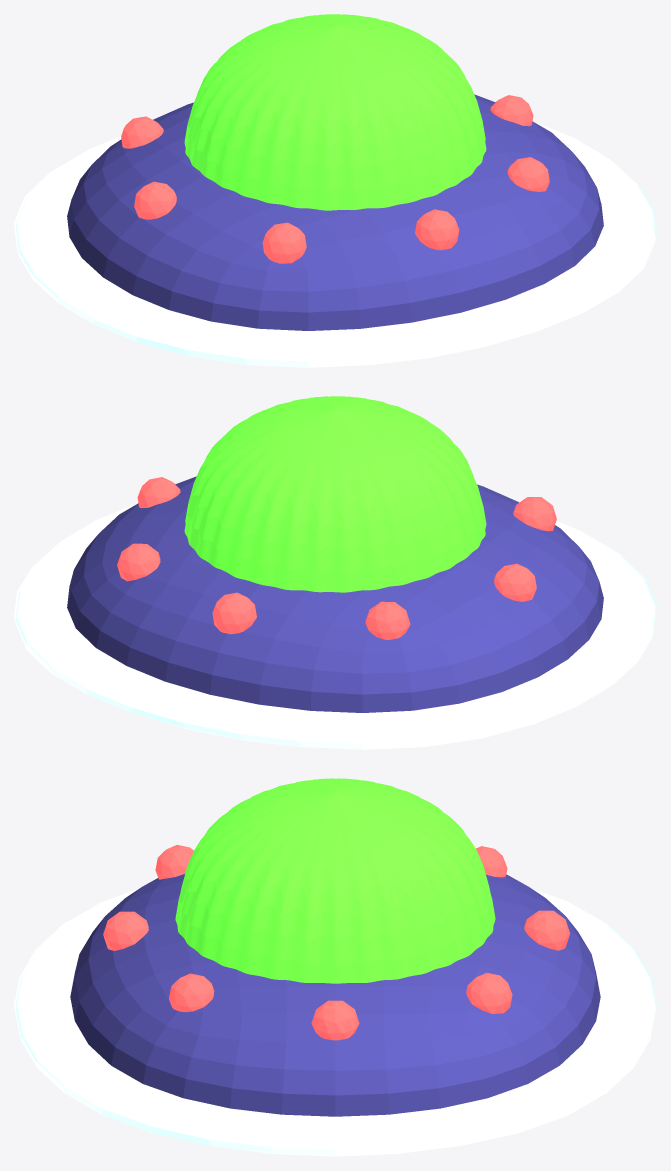
Rendered from saucer1.glb.
The picture shows the model from 3 angles, top to bottom: view 1: azimuth 30°, elevation 25°; view 2: azimuth 150°, elevation 25°; view 3: azimuth 270°, elevation 25°; orthographic projection. The views are drawn at different scales.
Visible parts, largest first — view 1: Cube, Cylinder, Icosphere.005, Icosphere.003, Icosphere.001, Icosphere.007, Icosphere.006, Icosphere; view 2: Cube, Cylinder, Icosphere.002, Icosphere.006, Icosphere.001, Icosphere.004, Icosphere.005, Icosphere; view 3: Cube, Cylinder, Icosphere, Icosphere.004, Icosphere.002, Icosphere.007, Icosphere.003, Icosphere.005, Icosphere.006.
Boxes of the visible parts, x1=… form: Cube: x1=14, y1=94, x2=656, y2=367; Cylinder: x1=184, y1=14, x2=486, y2=210; Icosphere.005: x1=262, y1=222, x2=306, y2=263; Icosphere.003: x1=415, y1=209, x2=459, y2=250; Icosphere.001: x1=134, y1=181, x2=176, y2=219; Icosphere.007: x1=507, y1=157, x2=549, y2=191; Icosphere.006: x1=121, y1=116, x2=163, y2=148; Icosphere: x1=490, y1=95, x2=533, y2=126; Cube: x1=14, y1=476, x2=656, y2=749; Cylinder: x1=184, y1=396, x2=486, y2=592; Icosphere.002: x1=212, y1=592, x2=256, y2=634; Icosphere.006: x1=365, y1=601, x2=410, y2=639; Icosphere.001: x1=494, y1=563, x2=536, y2=601; Icosphere.004: x1=117, y1=543, x2=160, y2=581; Icosphere.005: x1=513, y1=497, x2=556, y2=531; Icosphere: x1=137, y1=477, x2=180, y2=508; Cube: x1=14, y1=874, x2=656, y2=1156; Cylinder: x1=175, y1=778, x2=495, y2=983; Icosphere: x1=311, y1=1000, x2=359, y2=1040; Icosphere.004: x1=466, y1=972, x2=512, y2=1013; Icosphere.002: x1=524, y1=910, x2=569, y2=950; Icosphere.007: x1=169, y1=973, x2=214, y2=1012; Icosphere.003: x1=103, y1=911, x2=148, y2=950; Icosphere.005: x1=155, y1=845, x2=193, y2=879; Icosphere.006: x1=476, y1=846, x2=507, y2=877.
Size of the model in its own units: 3.23 by 1.58 by 3.06.
